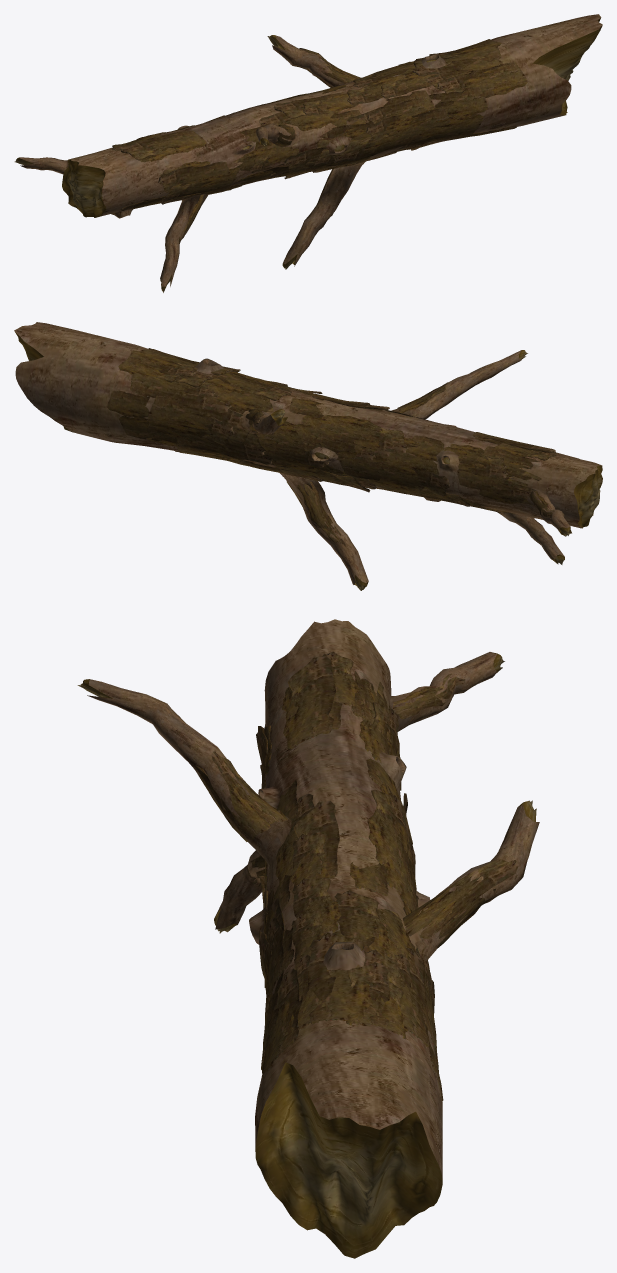
The picture shows the model from 3 angles, top to bottom: view 1: azimuth 30°, elevation 25°; view 2: azimuth 150°, elevation 25°; view 3: azimuth 270°, elevation 25°; orthographic projection. The views are drawn at different scales.
Parts seen in each view (by area): view 1: SM_Fallen_Log_01_LOD0; view 2: SM_Fallen_Log_01_LOD0; view 3: SM_Fallen_Log_01_LOD0.
Boxes of the visible parts, x1,y1,x2,y2 form: SM_Fallen_Log_01_LOD0: [14, 14, 602, 292]; SM_Fallen_Log_01_LOD0: [14, 322, 602, 590]; SM_Fallen_Log_01_LOD0: [77, 619, 539, 1258].
Size of the model in its own units: 4.48 by 1.55 by 1.62.
1 material, 1 textured.
